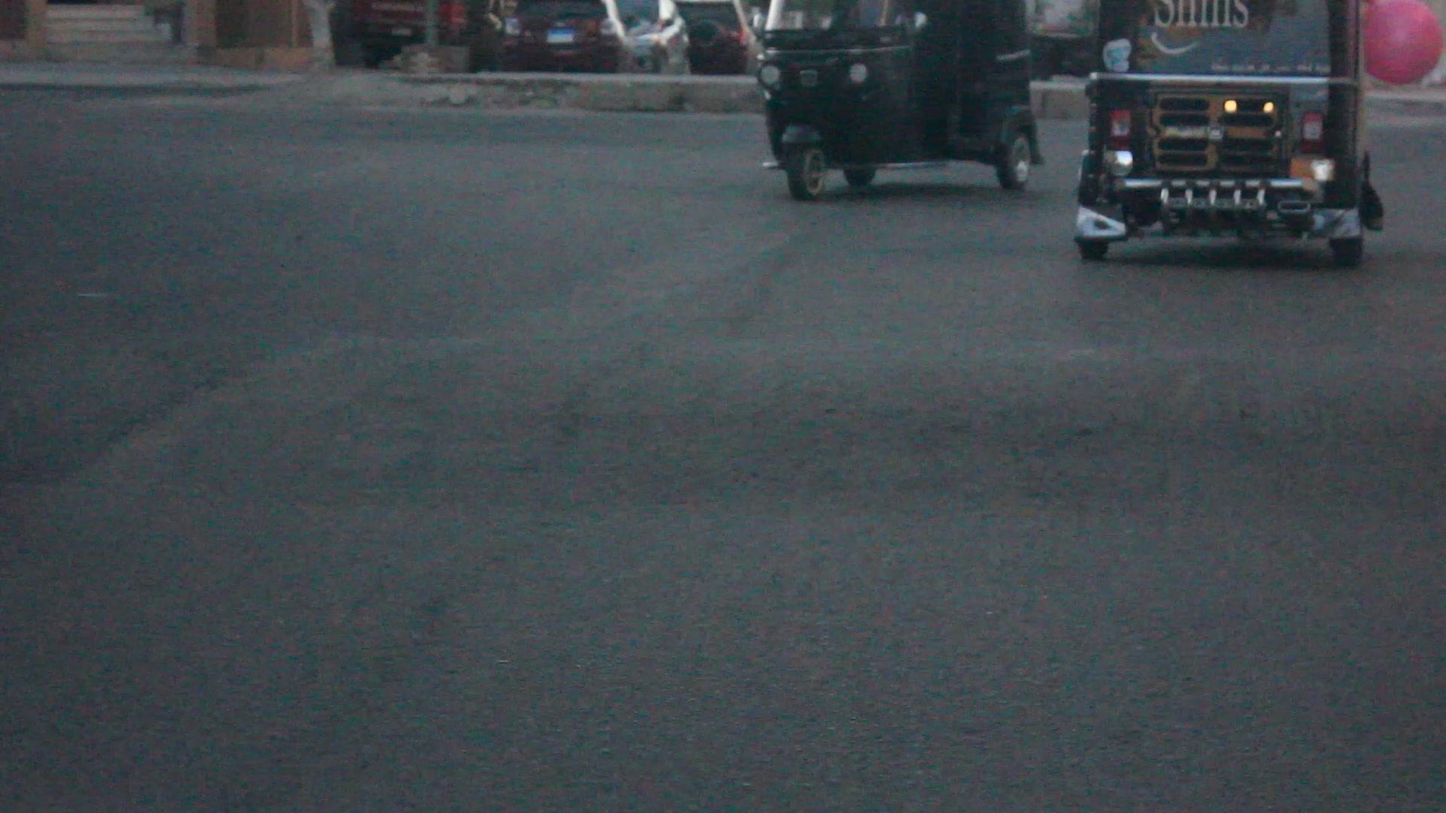Bump: (9, 312, 1437, 523)
